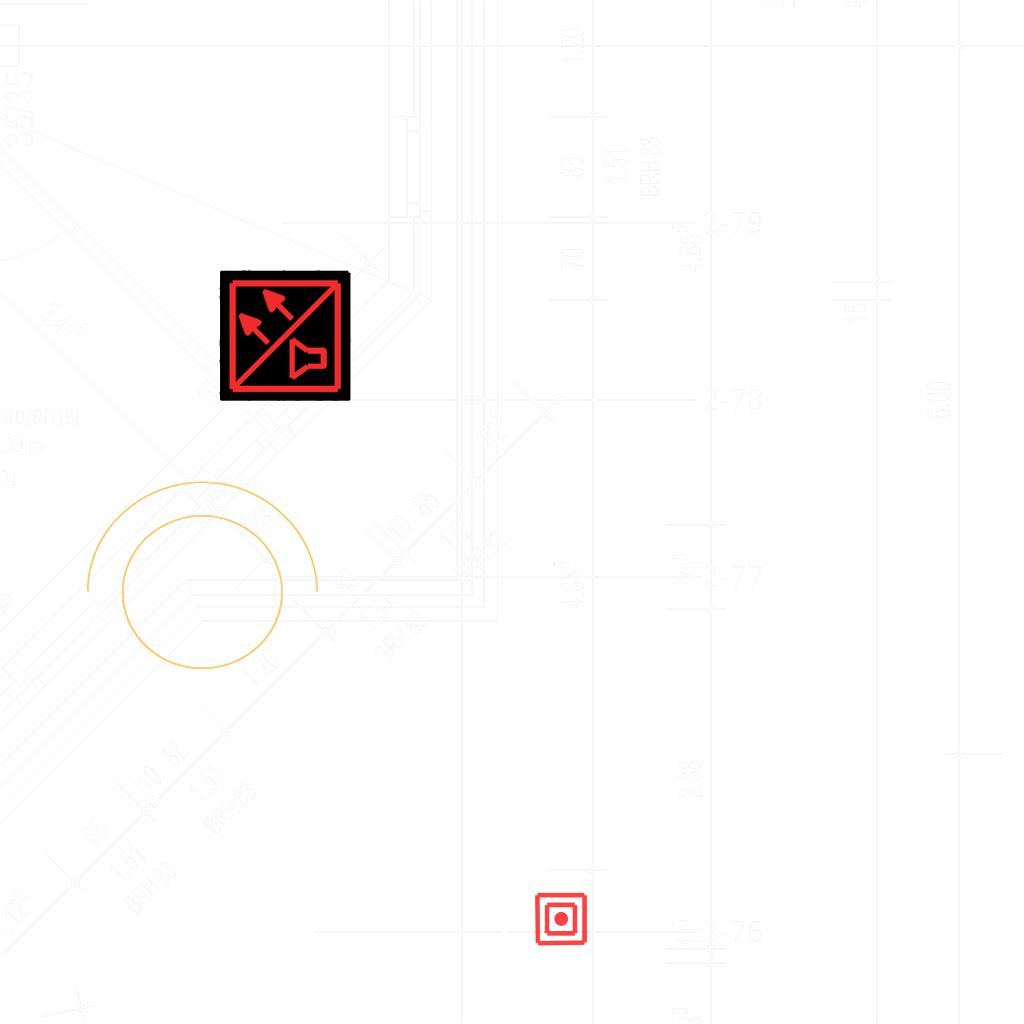NAM-Nichtautomatischer_Melder: (533, 891, 589, 947)
OKW_Multisensormelder_(Kombination_optischer_Rauch-Kahlenmonoxid_Waerme-Melder): (219, 269, 351, 401)
Scheinwerfer_fuer_Alarmbeleuchtung: (64, 470, 328, 695)
